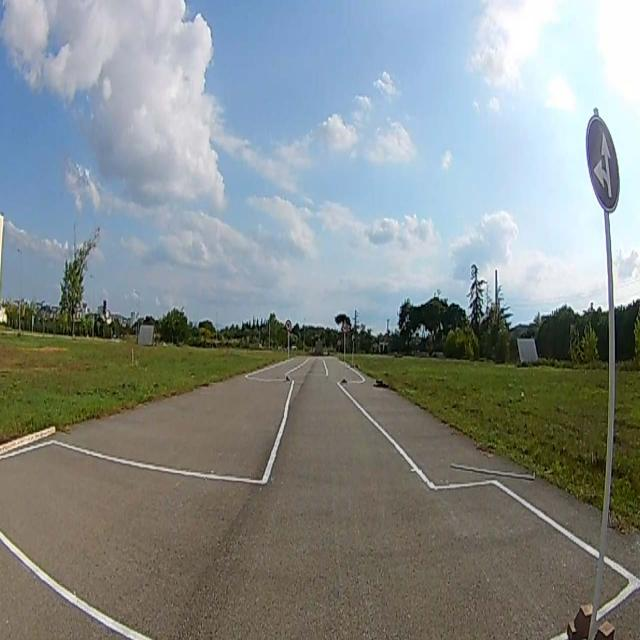ilerisol: (586, 114, 622, 210)
